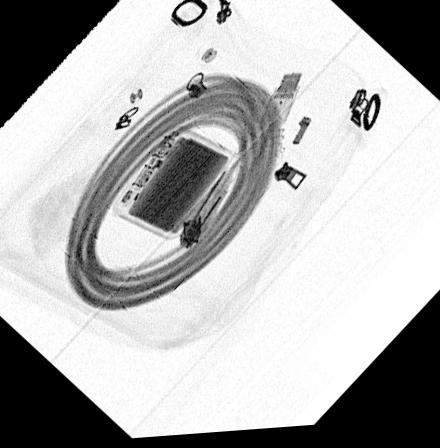Powerbank: (111, 128, 234, 240)
